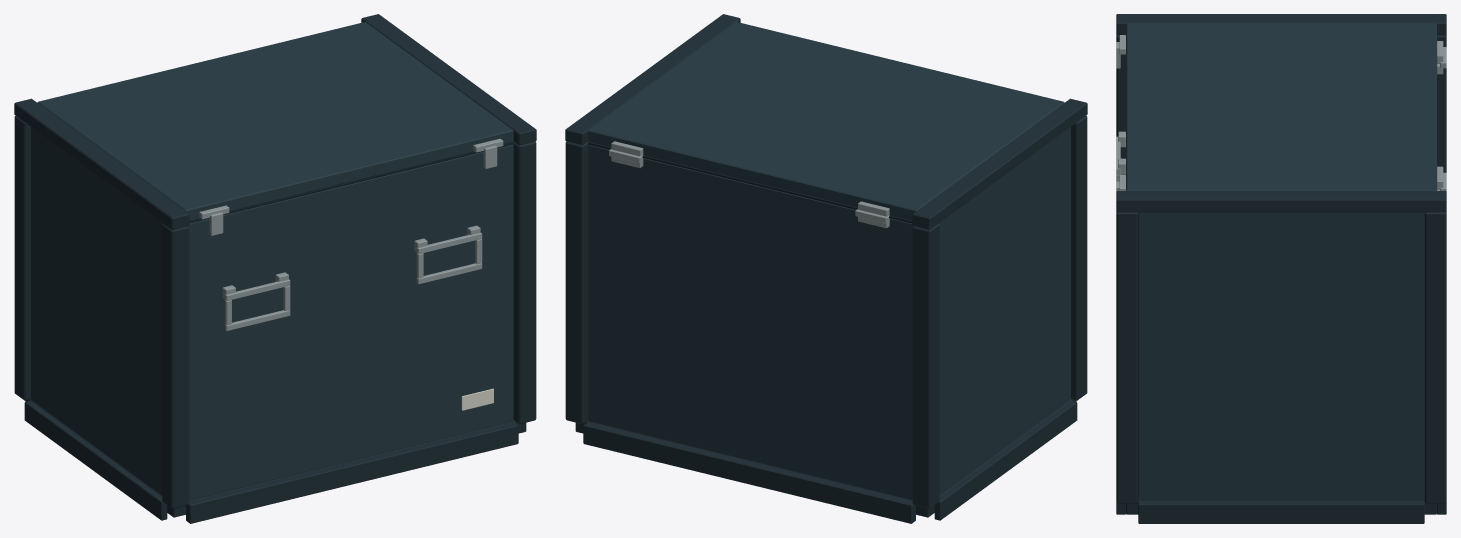
File: heavy-box.glb
3 renders of one model, left to right at view 1: azimuth 30°, elevation 25°; view 2: azimuth 150°, elevation 25°; view 3: azimuth 270°, elevation 25°, orthographic. The views are drawn at different scales.
Parts seen in each view (by area): view 1: heavy-box; view 2: heavy-box; view 3: heavy-box.
Part boxes in pixels (box(x1,y1,x2,y2)): heavy-box: box(14, 14, 536, 523); heavy-box: box(565, 14, 1087, 523); heavy-box: box(1116, 14, 1446, 523).
Size of the model in its own units: 0.8 by 0.65 by 0.6.
